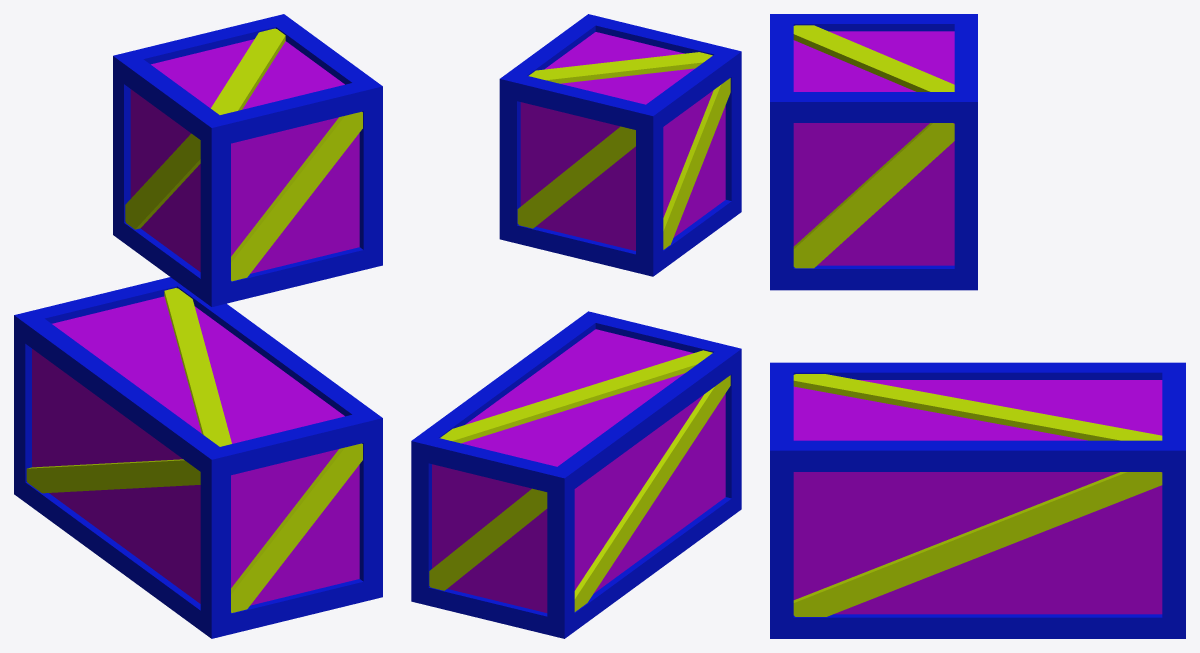
File: bake.fbx
The picture shows the model from 3 angles, left to right: view 1: azimuth 30°, elevation 25°; view 2: azimuth 150°, elevation 25°; view 3: azimuth 270°, elevation 25°; orthographic projection. The views are drawn at different scales.
Parts seen in each view (by area): view 1: Box2_High, Box1_High; view 2: Box2_High, Box1_High; view 3: Box2_High, Box1_High.
Boxes of the visible parts, left/top/right/bottom form: Box2_High: left=14, top=277, right=382, bottom=638; Box1_High: left=113, top=14, right=382, bottom=306; Box2_High: left=411, top=311, right=741, bottom=638; Box1_High: left=499, top=14, right=741, bottom=276; Box2_High: left=770, top=362, right=1185, bottom=638; Box1_High: left=770, top=14, right=977, bottom=290.
Size of the model in its own units: 100 by 285 by 200.
